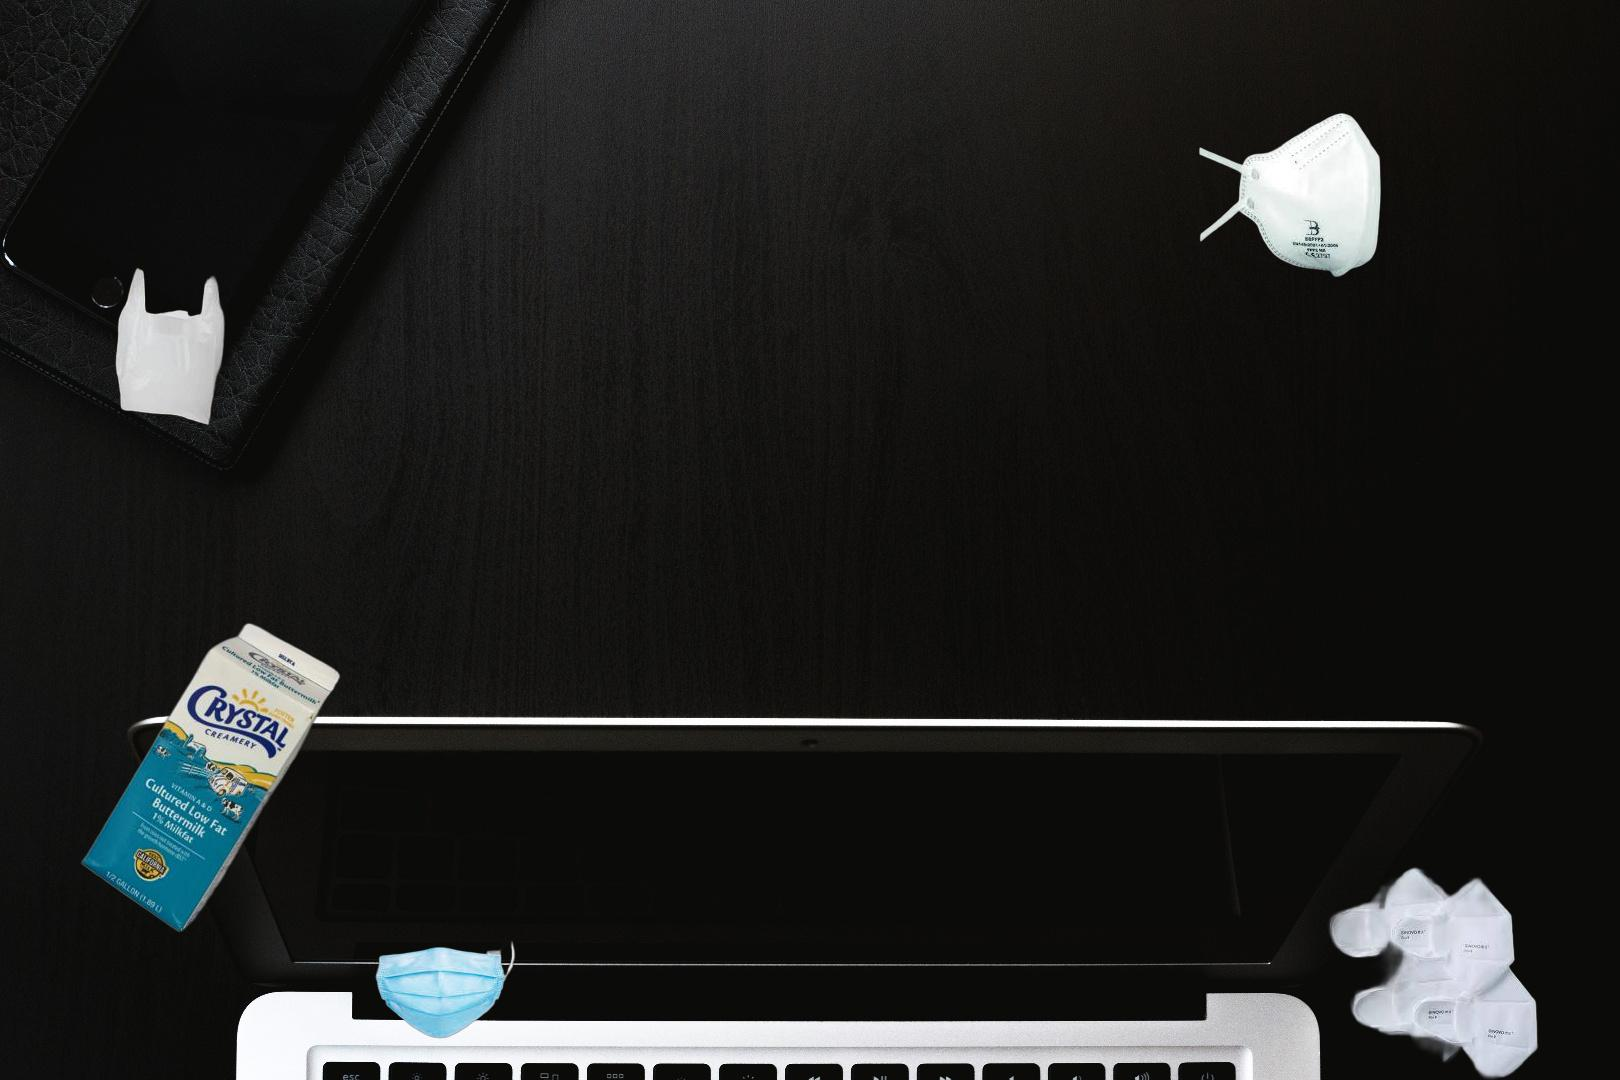paper: (76, 620, 345, 935)
plastic-bag: (115, 264, 230, 428)
trash: (1323, 861, 1546, 1080), (1196, 110, 1384, 280), (366, 933, 518, 1041)
